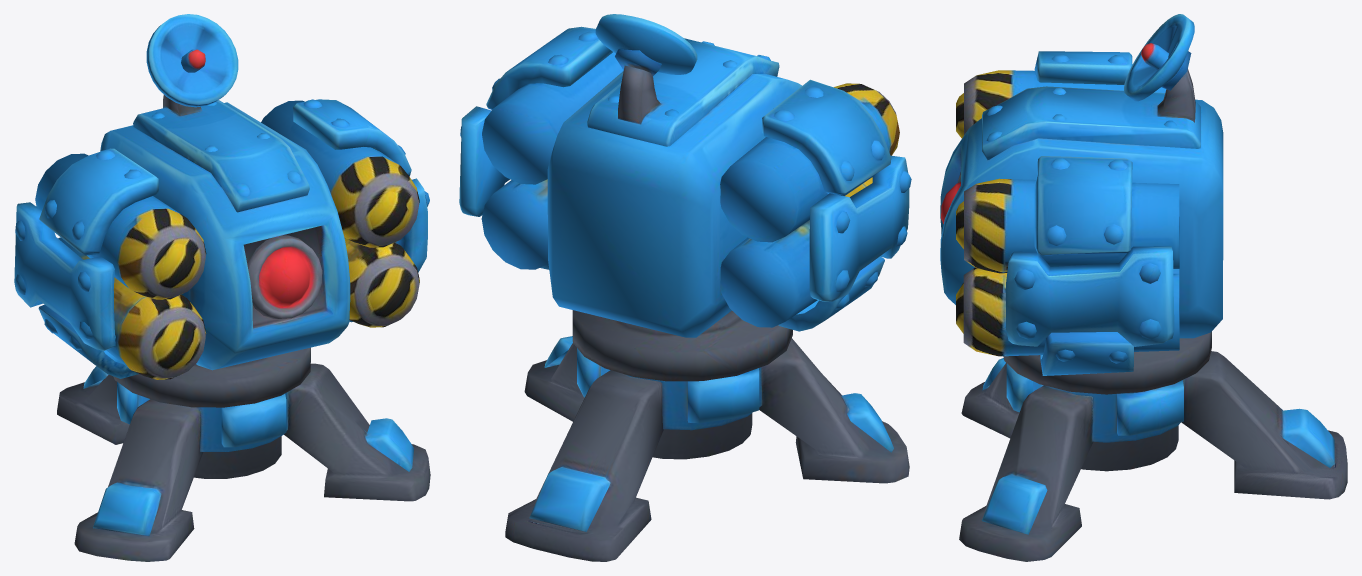
The model's file is missile_turret_2.glb.
3 views of the same model, side by side, from view 1: azimuth 30°, elevation 25°; view 2: azimuth 150°, elevation 25°; view 3: azimuth 270°, elevation 25° (orthographic). The views are drawn at different scales.
Parts seen in each view (by area): view 1: tripo_node_f2665351-e0ef-4156-8f82-8557a6a58b89; view 2: tripo_node_f2665351-e0ef-4156-8f82-8557a6a58b89; view 3: tripo_node_f2665351-e0ef-4156-8f82-8557a6a58b89.
Boxes of the visible parts, x1=… form: tripo_node_f2665351-e0ef-4156-8f82-8557a6a58b89: x1=14, y1=14, x2=430, y2=561; tripo_node_f2665351-e0ef-4156-8f82-8557a6a58b89: x1=459, y1=14, x2=911, y2=561; tripo_node_f2665351-e0ef-4156-8f82-8557a6a58b89: x1=940, y1=14, x2=1347, y2=561.
Bounding box in the file's own units: 2.4 × 2.83 × 2.31.
1 material, 1 textured.
